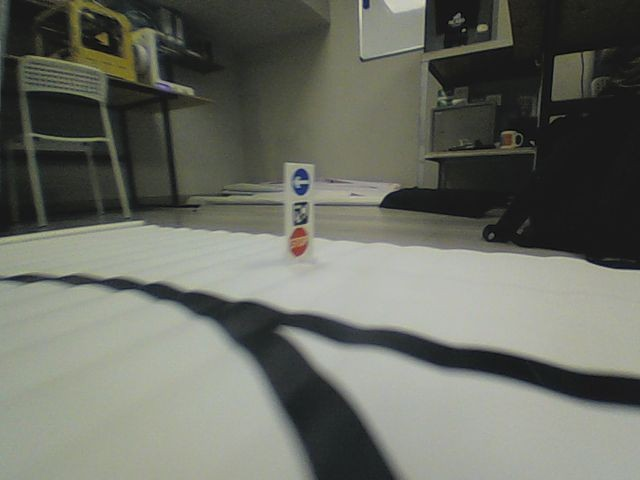Stop: (288, 227, 308, 257)
